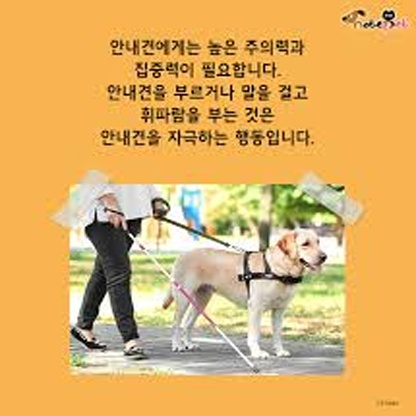guide-dog: (157, 225, 332, 357)
